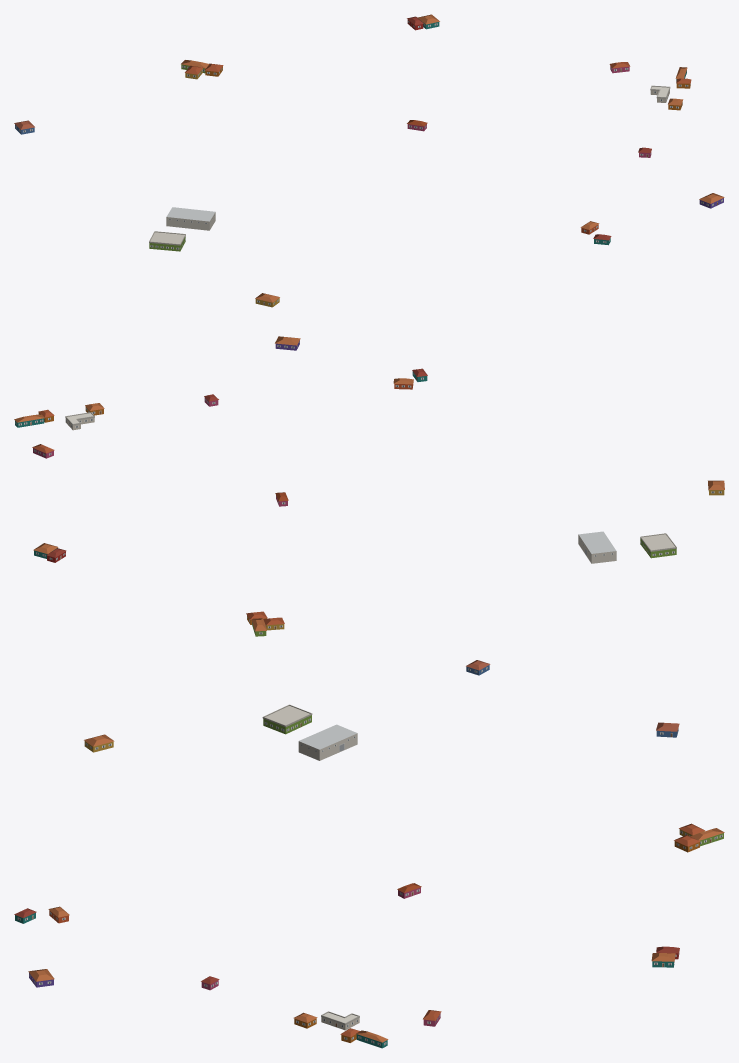
The model's file is msb_oranjestad_m14_1.glb.
3 renders of one model, top to bottom at view 1: azimuth 30°, elevation 25°; view 2: azimuth 150°, elevation 25°; view 3: azimuth 270°, elevation 25°, orthographic. The views are drawn at different scales.
Visible parts, largest first — view 1: msb_oranjestad_m14_1_lod0; view 2: msb_oranjestad_m14_1_lod0; view 3: msb_oranjestad_m14_1_lod0.
Part boxes in pixels (bbox=[...]): msb_oranjestad_m14_1_lod0: bbox=[14, 14, 724, 307]; msb_oranjestad_m14_1_lod0: bbox=[14, 336, 724, 675]; msb_oranjestad_m14_1_lod0: bbox=[14, 704, 724, 1048].
Size of what is drawn, in the model's own units: 415 by 15.29 by 361.
3 materials, 1 textured.
